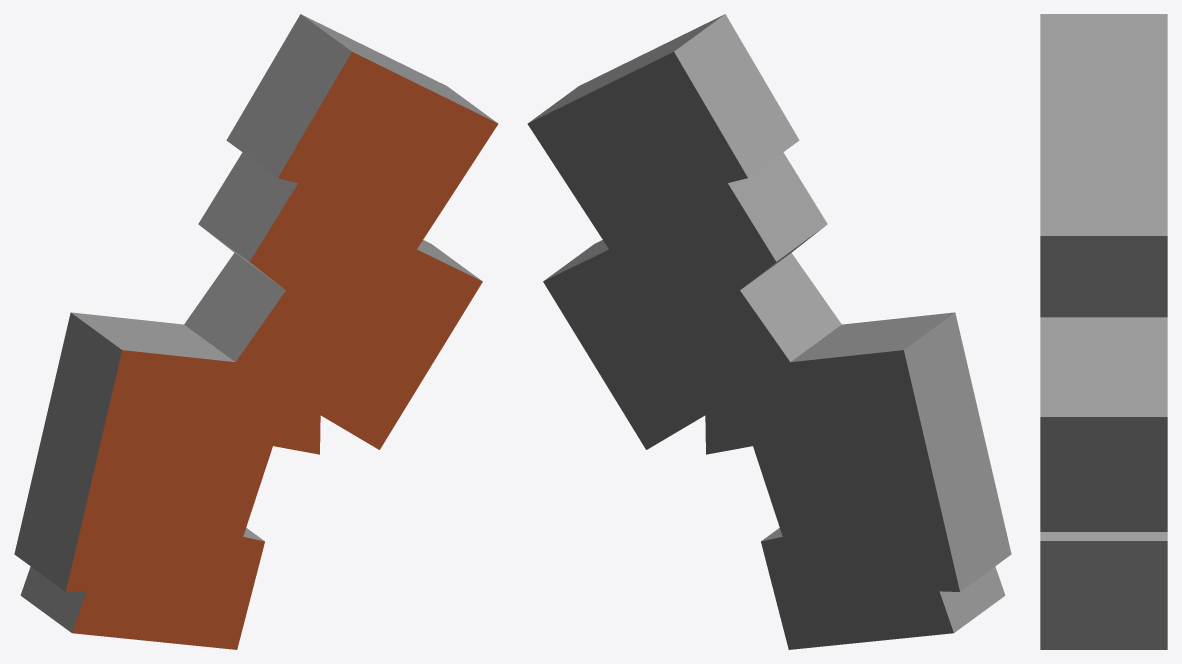
Rendered from construction_3456_assumed_A_Casa_h6m.obj.
3 views of the same model, side by side, from view 1: azimuth 30°, elevation 25°; view 2: azimuth 150°, elevation 25°; view 3: azimuth 270°, elevation 25° (orthographic). The views are drawn at different scales.
Parts seen in each view (by area): view 1: construction_3456_assumed_A_Casa; view 2: construction_3456_assumed_A_Casa; view 3: construction_3456_assumed_A_Casa.
Part boxes in pixels (x1,y1,x2,y2): construction_3456_assumed_A_Casa: [14, 14, 498, 649]; construction_3456_assumed_A_Casa: [527, 14, 1011, 649]; construction_3456_assumed_A_Casa: [1040, 14, 1167, 649].
Bounding box in the file's own units: 29.11 × 36.66 × 6.
